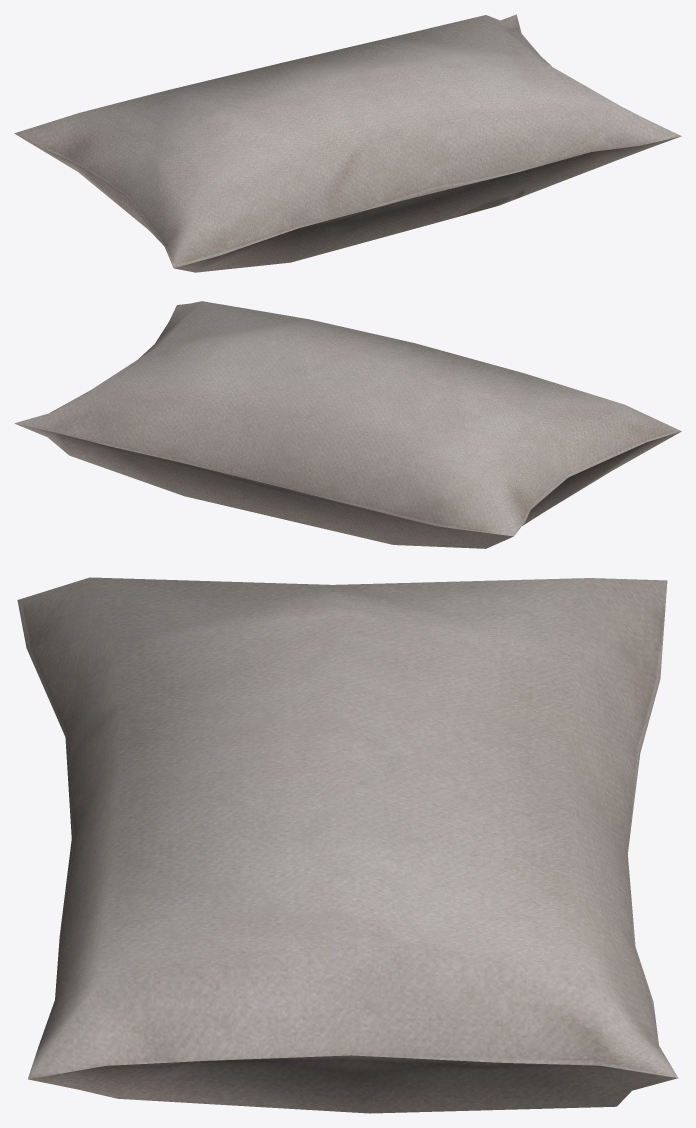
File: Ht_baozhen_01.FBX
3 renders of one model, top to bottom at view 1: azimuth 30°, elevation 25°; view 2: azimuth 150°, elevation 25°; view 3: azimuth 270°, elevation 25°, orthographic. The views are drawn at different scales.
Visible parts, largest first — view 1: Ht_baozhen_01; view 2: Ht_baozhen_01; view 3: Ht_baozhen_01.
Boxes of the visible parts, x1,y1,x2,y2 form: Ht_baozhen_01: (14, 14, 681, 272); Ht_baozhen_01: (14, 301, 681, 548); Ht_baozhen_01: (17, 577, 678, 1113).
Size of the model in its own units: 119 by 26.6 by 67.59.
